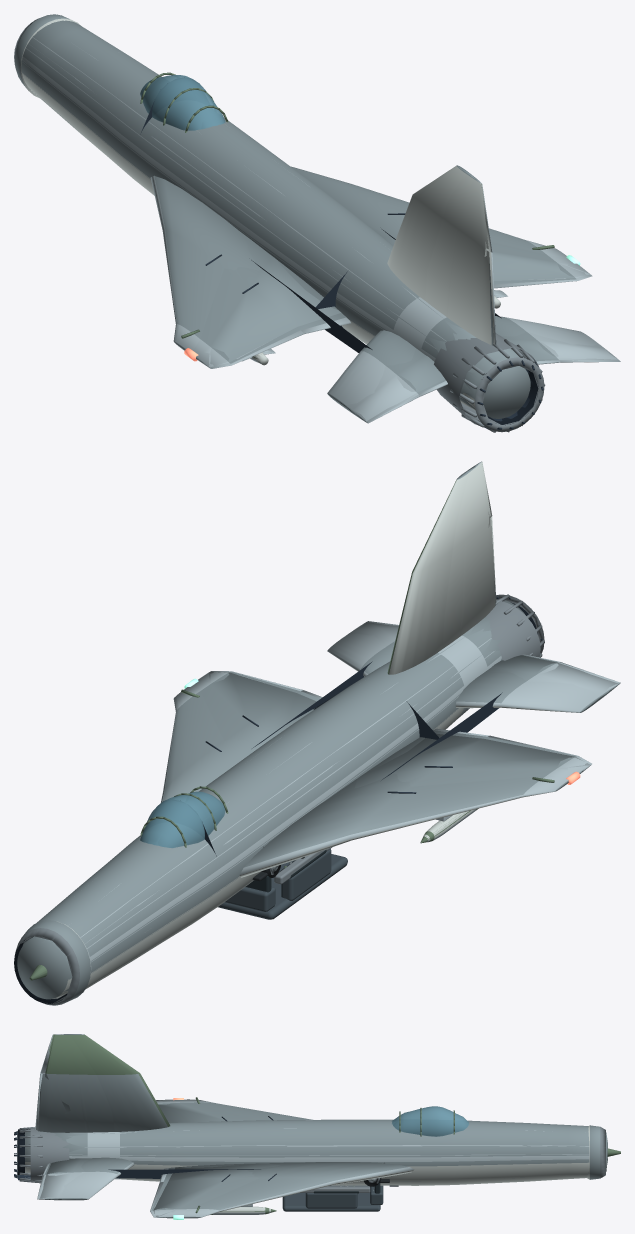
File: mig21.glb
3 views of the same model, one above another, from view 1: azimuth 30°, elevation 25°; view 2: azimuth 150°, elevation 25°; view 3: azimuth 270°, elevation 25° (orthographic). The views are drawn at different scales.
Visible parts, largest first — view 1: Airframe shell mesh, Airframe shell.002 mesh, Airframe shell.001 mesh, Aft nacelles, Central fuselage, Port wing, Canopy glass, Canopy glass.001, Forward fuselage, Starboard wing; view 2: Airframe shell mesh, Airframe shell.002 mesh, Airframe shell.001 mesh, Aft nacelles, Cockpit shell mesh, Forward fuselage, Port wing, Canopy glass, Central fuselage, Starboard wing, Canopy glass.001; view 3: Airframe shell mesh, Airframe shell.002 mesh, Airframe shell.001 mesh, Aft nacelles, Cockpit shell mesh, Central fuselage, Starboard wing, Canopy glass, Forward fuselage, Canopy glass.001, Port wing, Store_1 mesh.
Part boxes in pixels (x1,y1,x2,y2): Airframe shell mesh: [16, 14, 597, 432]; Airframe shell.002 mesh: [19, 14, 618, 431]; Airframe shell.001 mesh: [15, 16, 620, 429]; Aft nacelles: [315, 174, 552, 432]; Central fuselage: [139, 77, 387, 327]; Port wing: [196, 260, 422, 422]; Canopy glass: [140, 75, 225, 130]; Canopy glass.001: [142, 75, 223, 129]; Forward fuselage: [14, 16, 188, 185]; Starboard wing: [382, 229, 619, 360]; Airframe shell mesh: [14, 466, 610, 1004]; Airframe shell.002 mesh: [14, 462, 618, 1005]; Airframe shell.001 mesh: [15, 463, 620, 1003]; Aft nacelles: [313, 462, 552, 739]; Cockpit shell mesh: [218, 846, 347, 919]; Forward fuselage: [15, 800, 217, 1005]; Port wing: [381, 661, 619, 821]; Canopy glass: [140, 791, 225, 848]; Central fuselage: [165, 681, 418, 912]; Starboard wing: [199, 621, 398, 748]; Canopy glass.001: [140, 792, 224, 847]; Airframe shell mesh: [14, 1034, 618, 1219]; Airframe shell.002 mesh: [17, 1035, 620, 1217]; Airframe shell.001 mesh: [18, 1035, 619, 1217]; Aft nacelles: [17, 1034, 184, 1175]; Cockpit shell mesh: [282, 1162, 389, 1211]; Central fuselage: [185, 1106, 435, 1185]; Starboard wing: [38, 1169, 260, 1218]; Canopy glass: [392, 1106, 468, 1136]; Forward fuselage: [435, 1106, 620, 1183]; Canopy glass.001: [393, 1106, 467, 1136]; Port wing: [156, 1099, 257, 1121]; Store_1 mesh: [210, 1206, 270, 1214].
Bounding box in the file's own units: 7.28 × 4.64 × 15.66.
